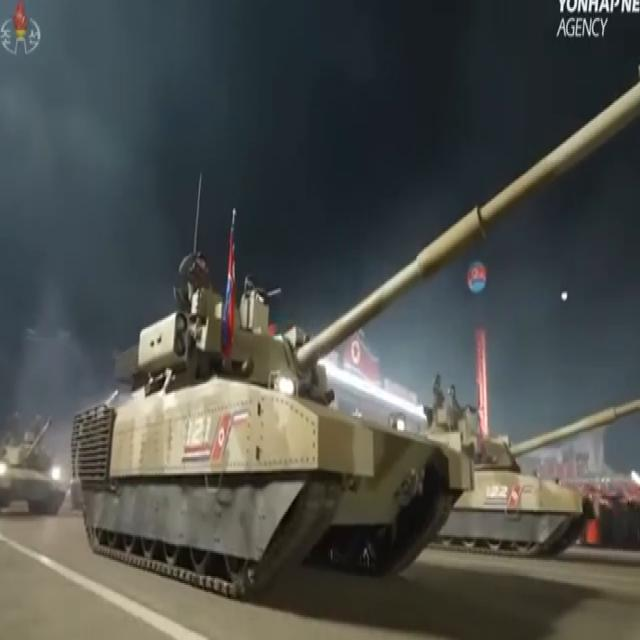north tank: (65, 58, 640, 606), (384, 359, 640, 621), (0, 404, 71, 536)
